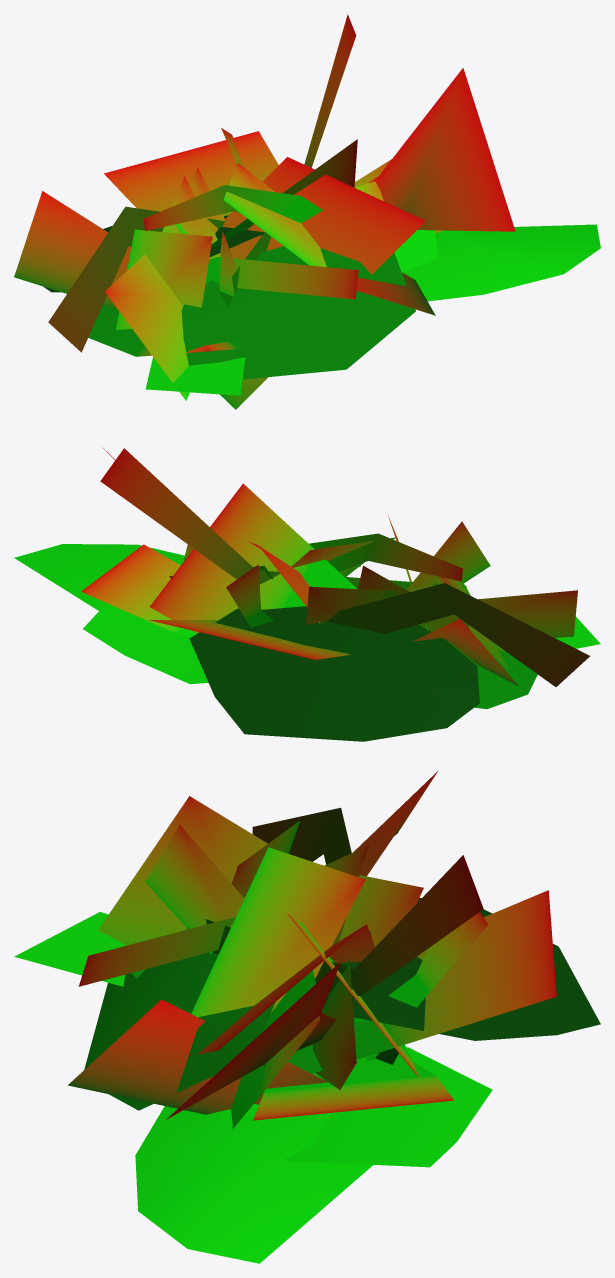
The model's file is DrySet01_Var9_LOD1.fbx.
3 renders of one model, top to bottom at view 1: azimuth 30°, elevation 25°; view 2: azimuth 150°, elevation 25°; view 3: azimuth 270°, elevation 25°, orthographic. The views are drawn at different scales.
Visible parts, largest first — view 1: DrySet01_Var9_LOD1; view 2: DrySet01_Var9_LOD1; view 3: DrySet01_Var9_LOD1.
Part boxes in pixels (box(x1,y1,x2,y2)): DrySet01_Var9_LOD1: box(14, 14, 600, 409); DrySet01_Var9_LOD1: box(14, 447, 600, 741); DrySet01_Var9_LOD1: box(14, 770, 600, 1263).
Bounding box in the file's own units: 115 × 51.29 × 74.47.
